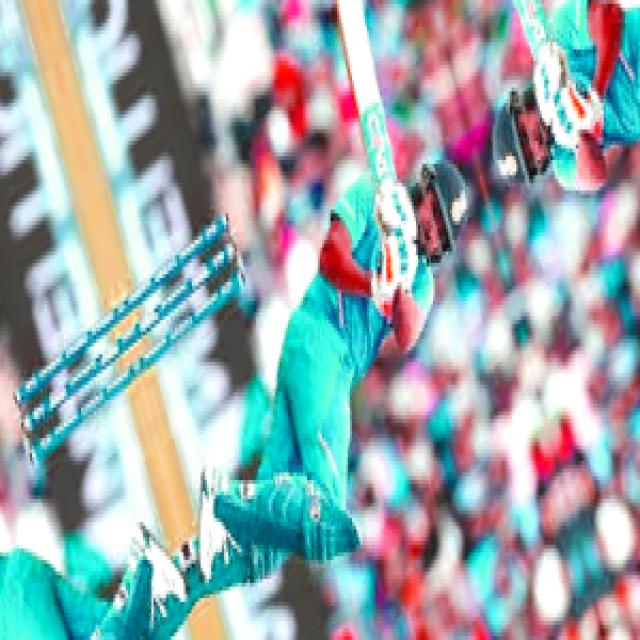toe: (332, 0, 371, 25)
